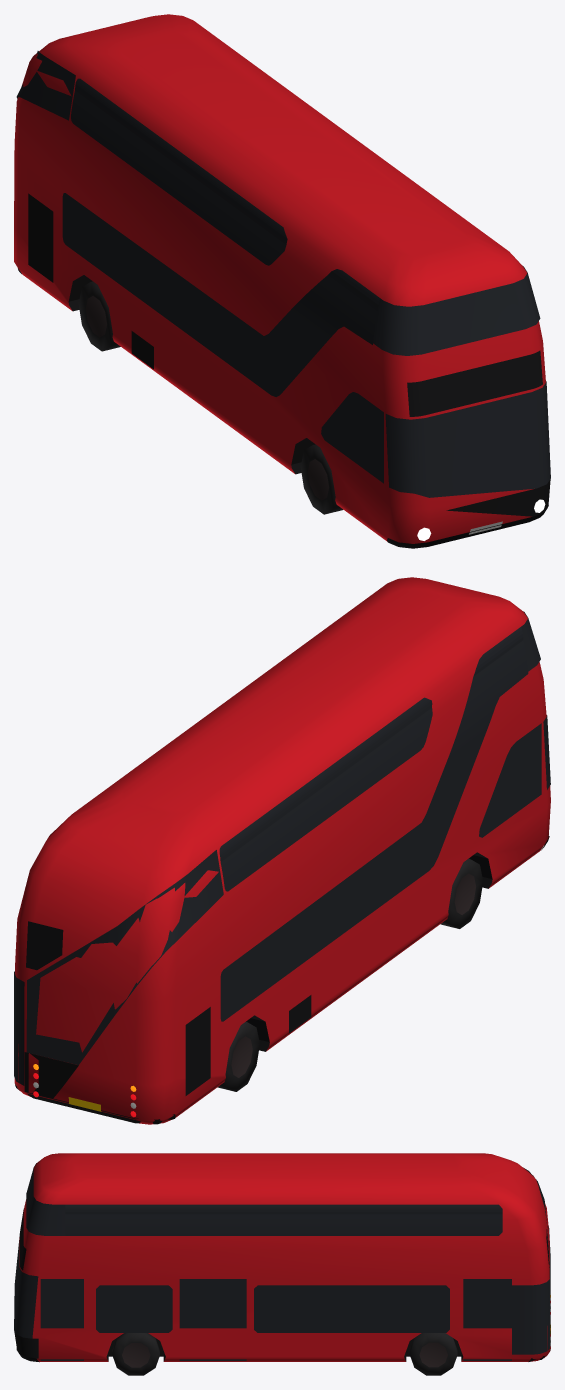
File: london-bus_LOD1.glb
3 renders of one model, top to bottom at view 1: azimuth 30°, elevation 25°; view 2: azimuth 150°, elevation 25°; view 3: azimuth 270°, elevation 25°, orthographic. The views are drawn at different scales.
Visible parts, largest first — view 1: BUS_LOD1; view 2: BUS_LOD1; view 3: BUS_LOD1.
Boxes of the visible parts, bbox=[...] form: BUS_LOD1: bbox=[14, 14, 550, 548]; BUS_LOD1: bbox=[14, 577, 550, 1124]; BUS_LOD1: bbox=[14, 1153, 550, 1375].
Size of the model in its own units: 2.54 by 4.28 by 11.23.
